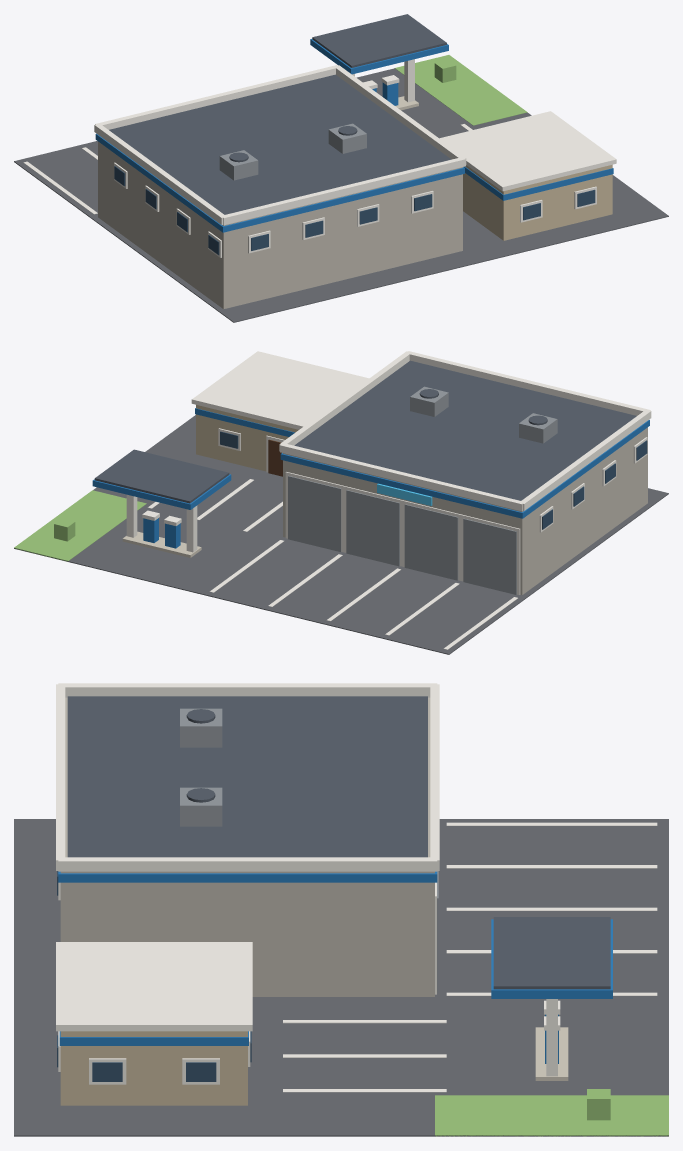
The model's file is busdepot.glb.
3 renders of one model, top to bottom at view 1: azimuth 30°, elevation 25°; view 2: azimuth 150°, elevation 25°; view 3: azimuth 270°, elevation 25°, orthographic. The views are drawn at different scales.
Parts seen in each view (by area): view 1: garage, roof, yard, parapet (×4), office_roof, office, canopy, lawn, accent_stripe (×2), ac_unit_body (×2), canopy_fascia; view 2: yard, roof, garage_door (×4), garage, parapet (×4), office_roof, canopy, lawn, accent_stripe (×2), office, garage_door_frame (×4), ac_unit_body (×2) (+5 smaller); view 3: yard, roof, garage, office_roof, parapet (×4), office, lawn, canopy, accent_stripe (×2), ac_unit_body (×2), bay_line (×3), canopy_fascia (+3 smaller).
Part boxes in pixels (x1,y1,x2,y2): garage: (98, 141, 462, 309); roof: (109, 74, 451, 214); yard: (14, 68, 668, 322); parapet (×4): (94, 65, 466, 225); office_roof: (439, 111, 616, 191); office: (463, 164, 612, 240); canopy: (312, 14, 446, 67); lawn: (395, 55, 527, 125); accent_stripe (×2): (95, 133, 613, 232); ac_unit_body (×2): (219, 123, 366, 180); canopy_fascia: (310, 39, 448, 74); yard: (14, 415, 668, 654); roof: (294, 360, 636, 500); garage_door (×4): (288, 475, 516, 594); garage: (283, 427, 647, 594); parapet (×4): (279, 351, 651, 511); office_roof: (191, 351, 368, 429); canopy: (94, 449, 229, 503); lawn: (14, 490, 146, 561); accent_stripe (×2): (195, 408, 649, 518); office: (196, 405, 298, 471); garage_door_frame (×4): (285, 472, 520, 595); ac_unit_body (×2): (410, 386, 557, 443); yard: (14, 819, 668, 1136); roof: (67, 696, 427, 857); garage: (60, 697, 434, 996); office_roof: (56, 942, 252, 1031); parapet (×4): (56, 683, 439, 871); office: (60, 1031, 247, 1105); lawn: (435, 1095, 668, 1136); canopy: (493, 917, 610, 989); accent_stripe (×2): (58, 871, 437, 1045); ac_unit_body (×2): (180, 708, 222, 826); bay_line (×3): (446, 822, 657, 910); canopy_fascia: (491, 919, 612, 998).
Size of the model in its own units: 32 by 7.3 by 28.
